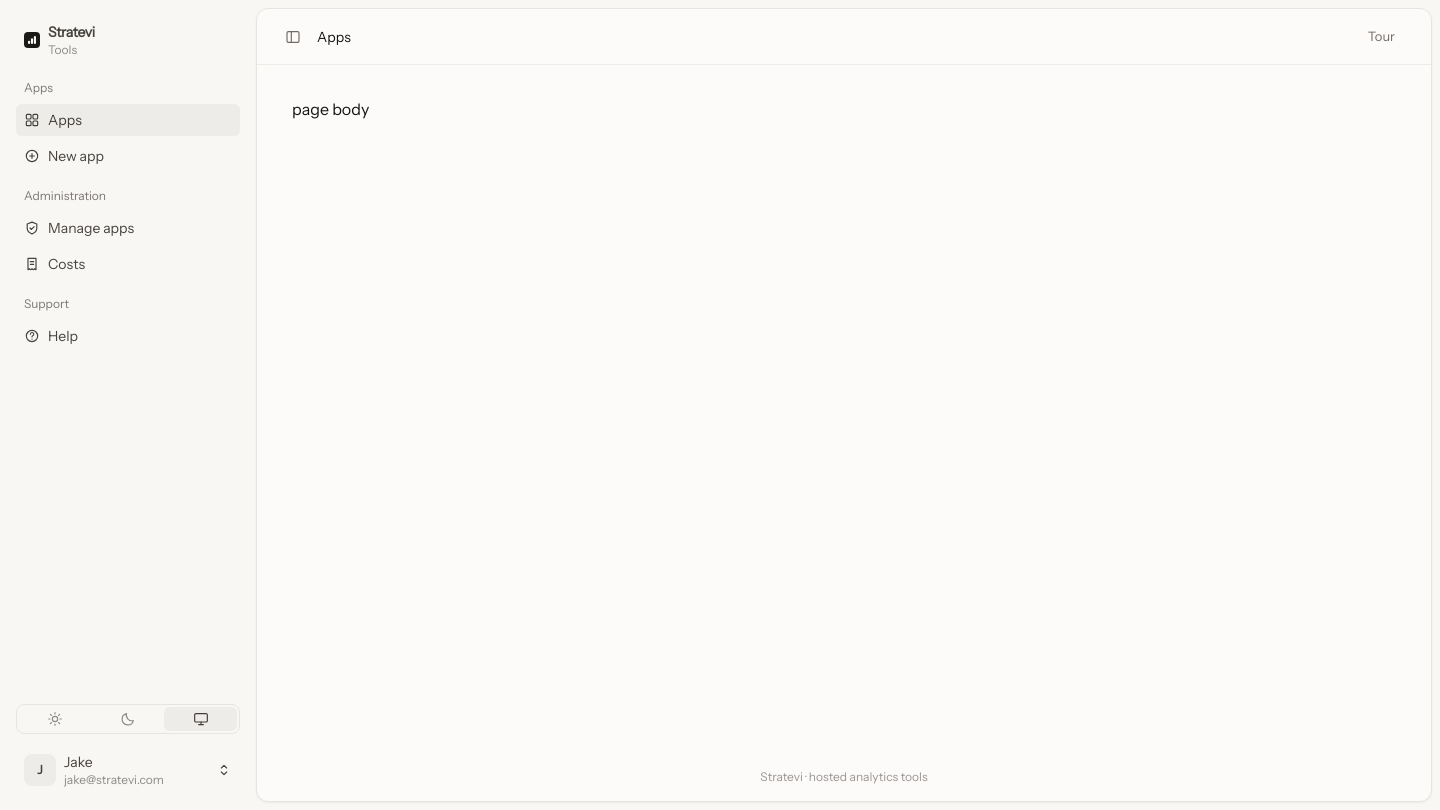
Test case: the Tour button, wired into the real header › closes on a scrim click and returns focus to the Tour button
The width and height of the screenshot is (1440, 810).
Click the button "Tour".
click(1381, 36)  # box [1356,20,1407,52]
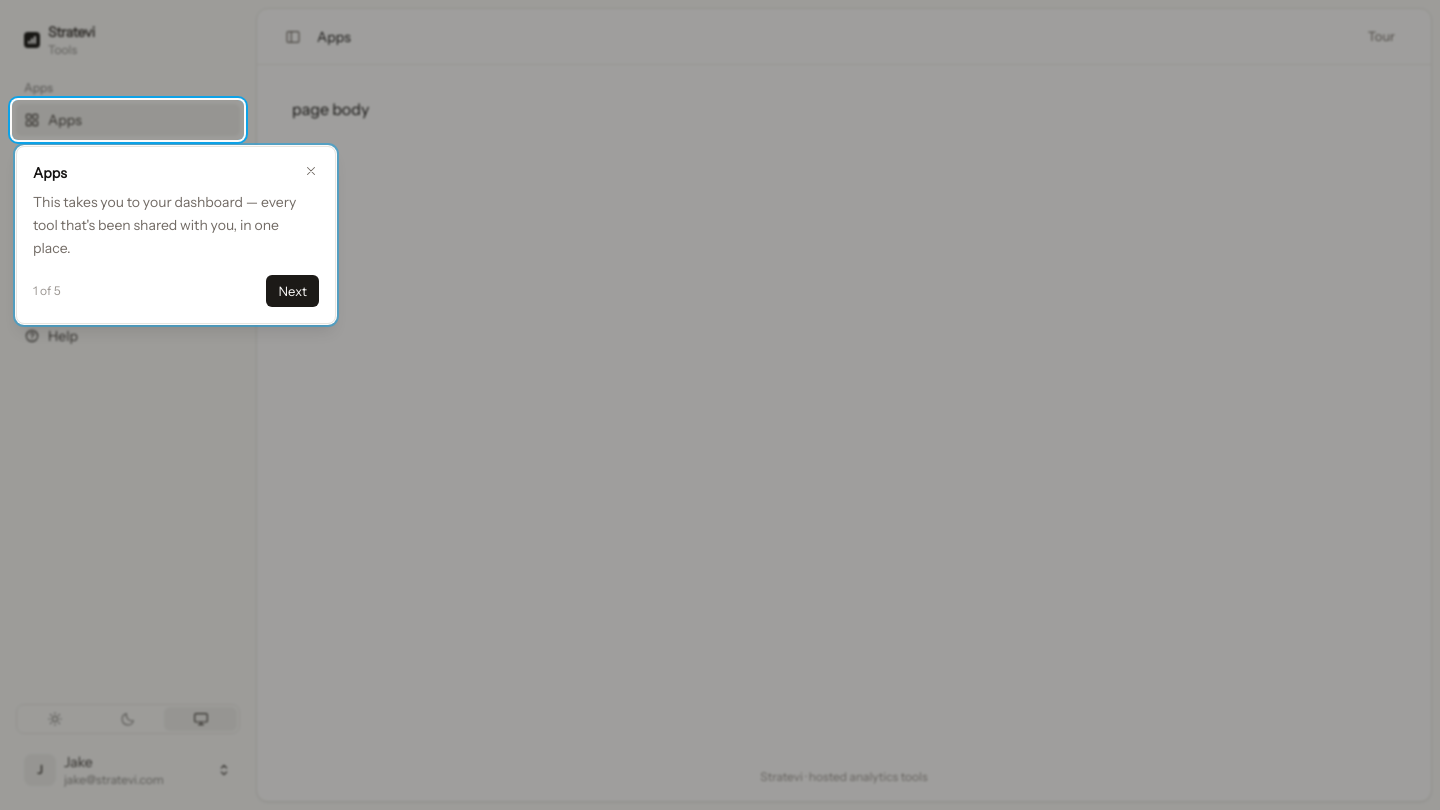
Click the element with test id "tour-scrim".
click(720, 405)  # box [0,0,1439,809]
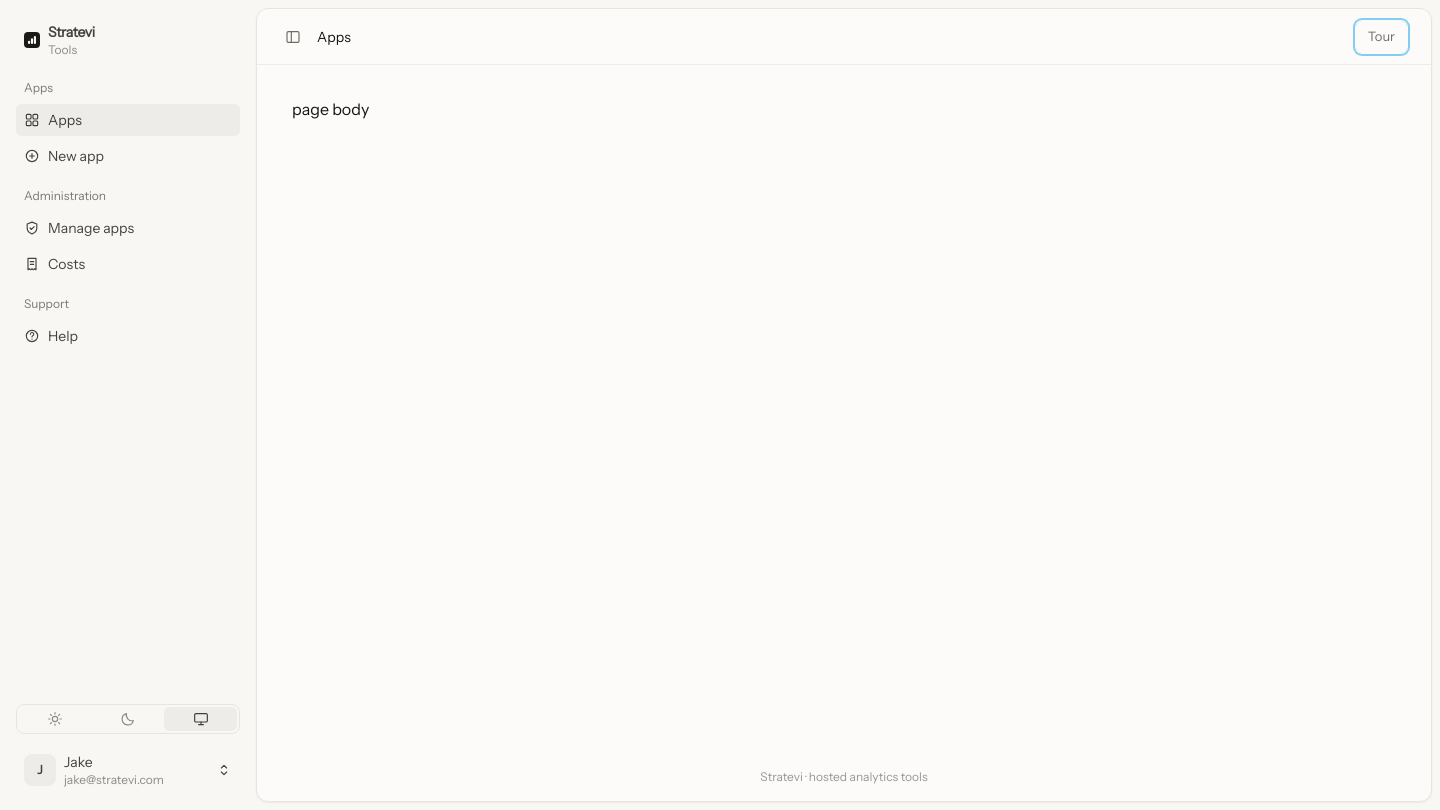
Expected: the dialog is gone
